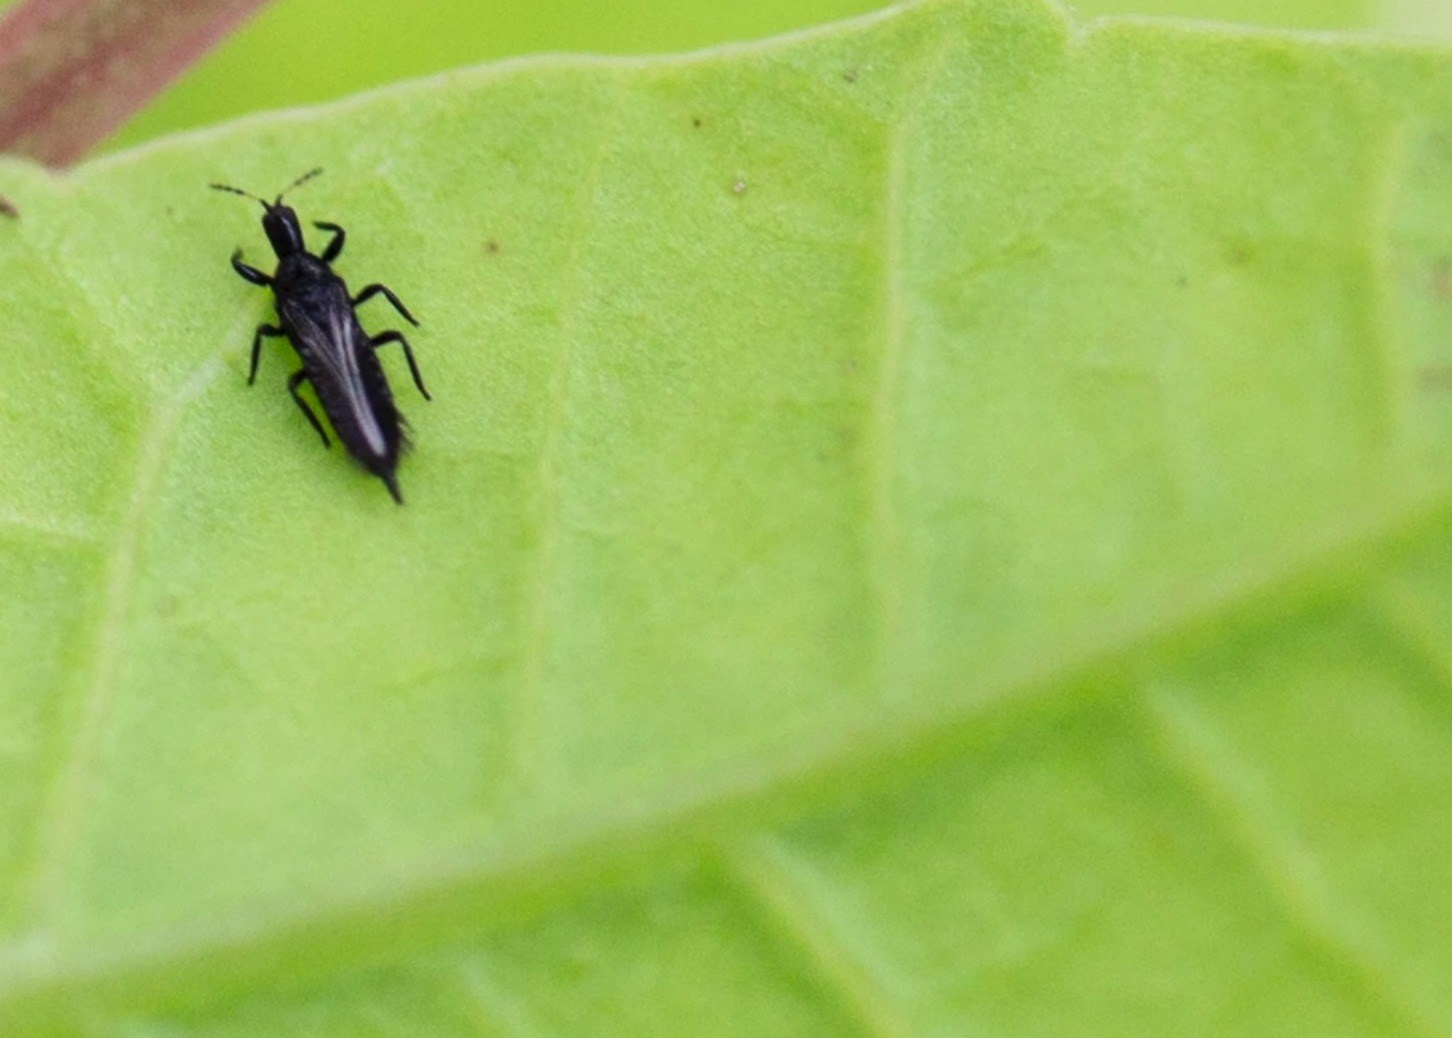Thrips: (198, 170, 467, 543)
